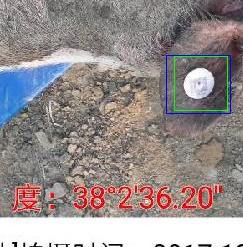text: (174, 56, 227, 110)
